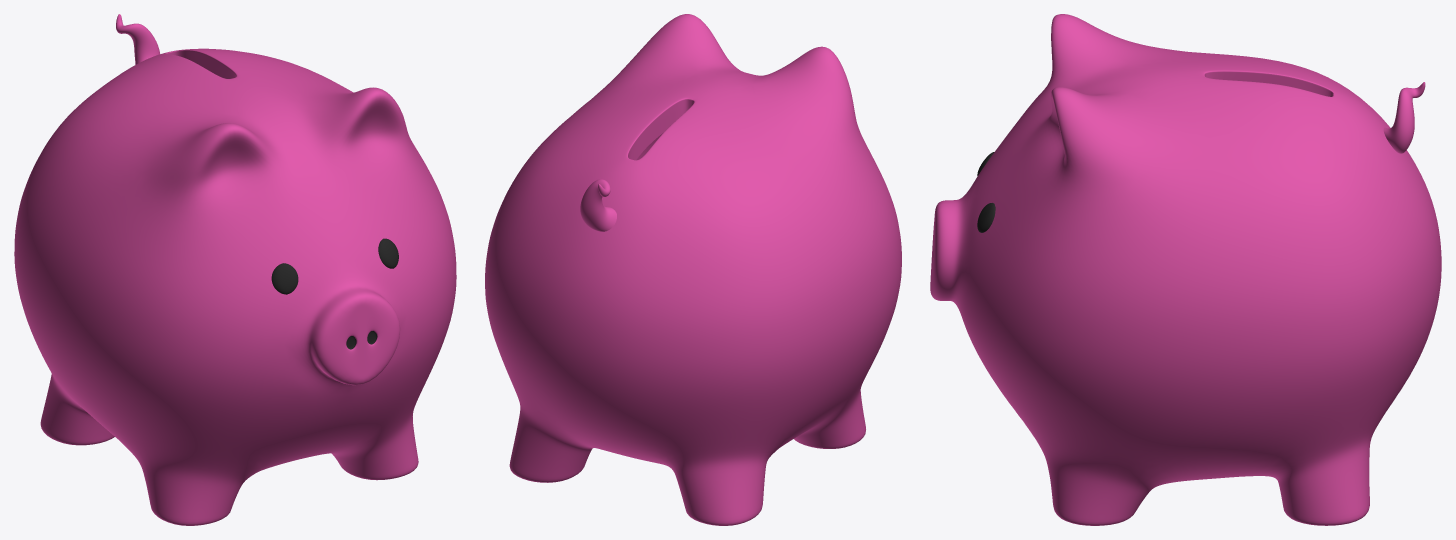
Rendered from piggy_fab.fbx.
The picture shows the model from 3 angles, left to right: view 1: azimuth 30°, elevation 25°; view 2: azimuth 150°, elevation 25°; view 3: azimuth 270°, elevation 25°; orthographic projection. The views are drawn at different scales.
Parts seen in each view (by area): view 1: Cube; view 2: Cube; view 3: Cube.
Boxes of the visible parts, x1=… form: Cube: x1=14, y1=14, x2=456, y2=525; Cube: x1=485, y1=14, x2=901, y2=525; Cube: x1=930, y1=14, x2=1441, y2=525.
Bounding box in the file's own units: 273 × 284 × 320.
